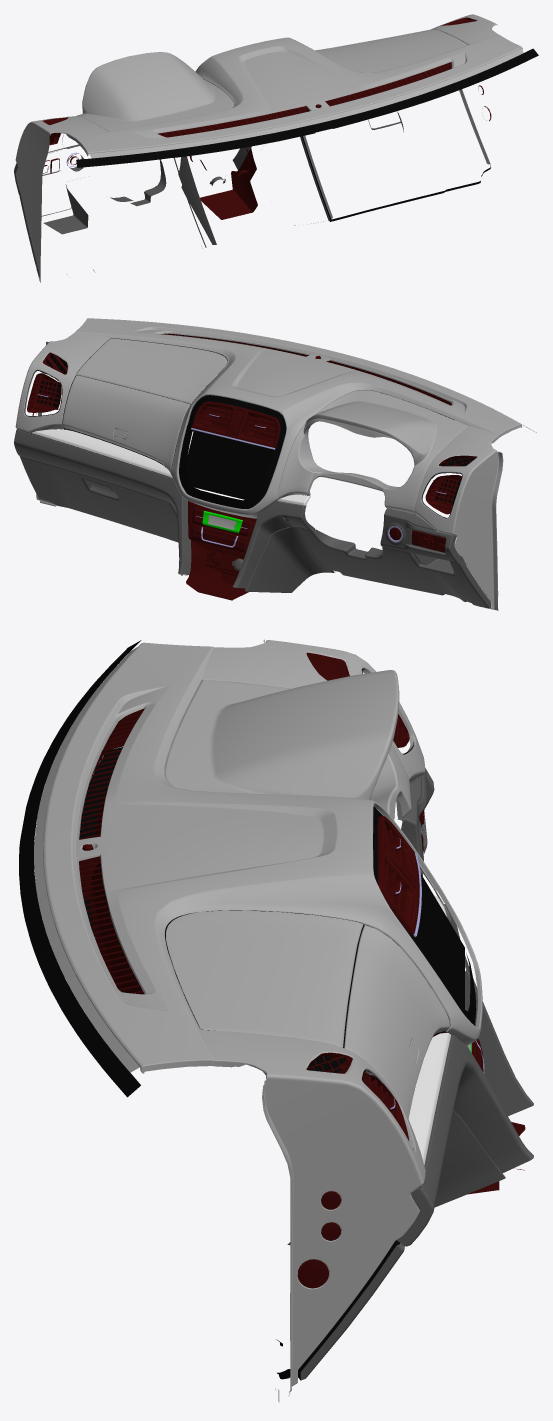
Rendered from TOYOTA_URBAN_CRUISER_IN_DASHBOARD_MESH.glb.
3 views of the same model, one above another, from view 1: azimuth 30°, elevation 25°; view 2: azimuth 150°, elevation 25°; view 3: azimuth 270°, elevation 25° (orthographic). The views are drawn at different scales.
Parts seen in each view (by area): view 1: TOYOTA_URBAN_CRUISER_IN_DASHBOARD_MESH; view 2: TOYOTA_URBAN_CRUISER_IN_DASHBOARD_MESH; view 3: TOYOTA_URBAN_CRUISER_IN_DASHBOARD_MESH.
Boxes of the visible parts, bbox=[...] form: TOYOTA_URBAN_CRUISER_IN_DASHBOARD_MESH: bbox=[14, 14, 538, 282]; TOYOTA_URBAN_CRUISER_IN_DASHBOARD_MESH: bbox=[14, 318, 536, 610]; TOYOTA_URBAN_CRUISER_IN_DASHBOARD_MESH: bbox=[19, 639, 533, 1402].
Size of the model in its own units: 1.41 by 0.5792 by 0.6829.
